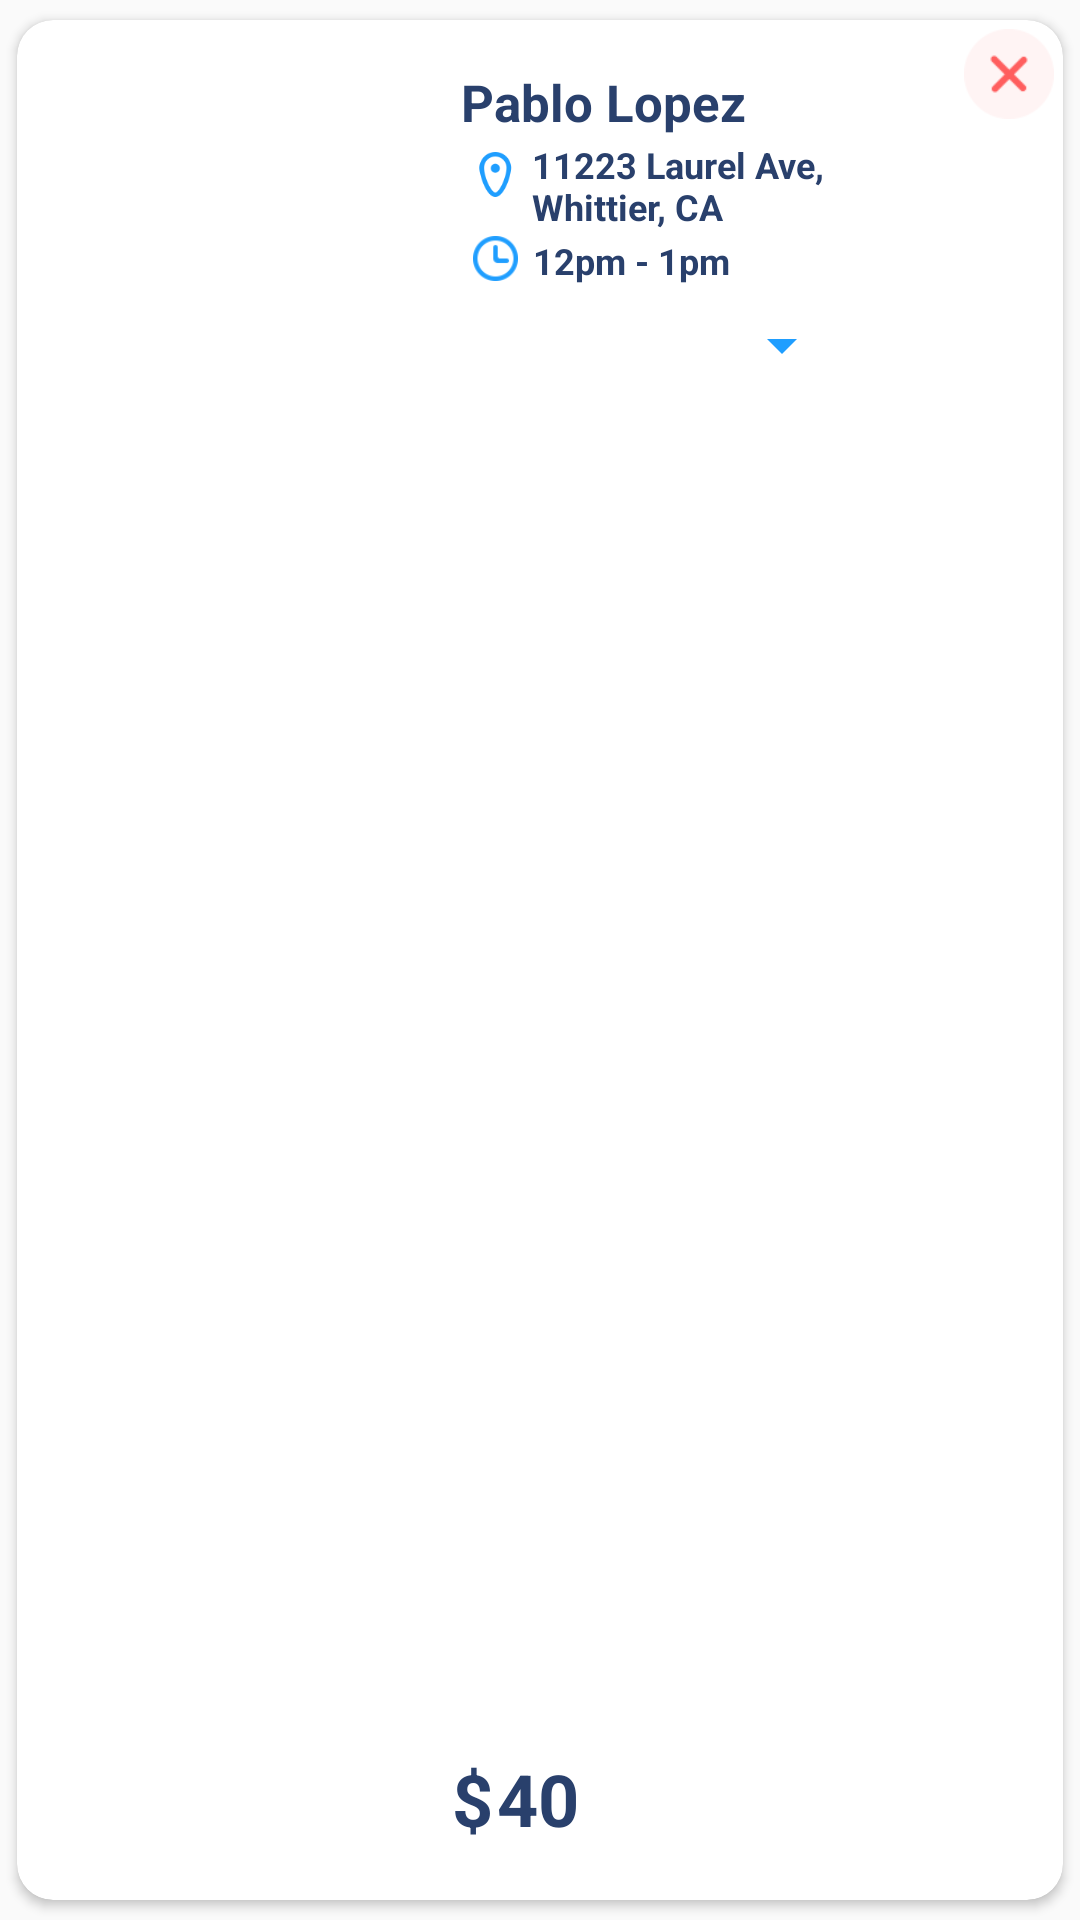

Screen size 1080px x 1920px. Icon name, then its box in pixels as box(x1, y1, x2, y2):
cancelcircle: box(964, 29, 1054, 119)
locationicon: box(479, 152, 512, 197)
timeicon: box(473, 236, 518, 281)
